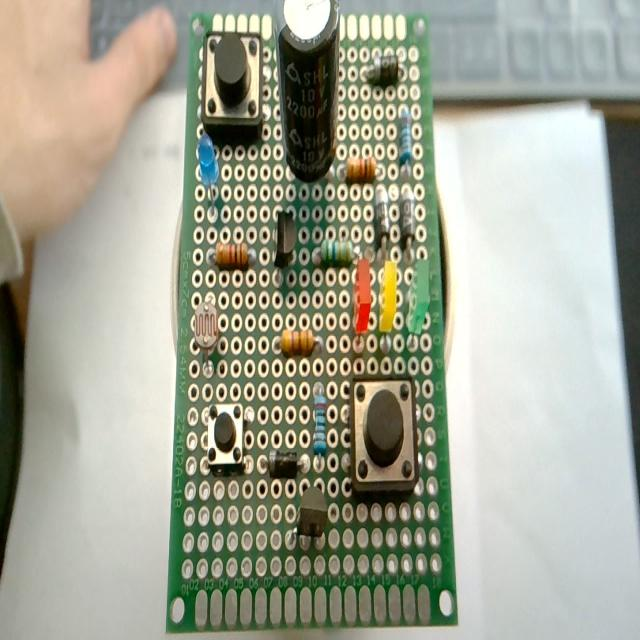Electrolytic capacitor: (275, 1, 342, 182)
cds: (193, 297, 219, 375)
diode: (263, 451, 309, 478), (366, 49, 398, 85), (374, 184, 389, 253), (400, 185, 416, 249)
led: (197, 131, 220, 224), (406, 257, 429, 336), (351, 259, 371, 345), (378, 257, 398, 334)
resistor: (210, 243, 257, 269), (313, 384, 327, 456), (280, 330, 316, 356), (318, 240, 353, 266), (399, 106, 412, 172), (345, 156, 376, 182)
switch: (349, 374, 419, 496), (202, 30, 264, 138), (206, 401, 244, 474)
transistor: (278, 484, 329, 544), (273, 210, 297, 283)
